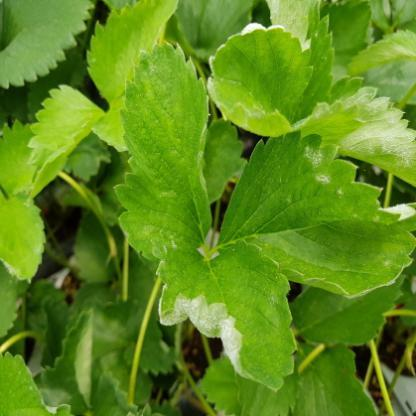Strawberry_Powdery_Mildew_Leaf: (214, 129, 415, 301), (151, 231, 298, 392), (111, 38, 212, 262), (293, 76, 415, 188), (206, 22, 314, 137), (265, 0, 336, 123), (0, 192, 47, 286)
